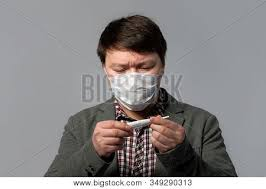masked: (92, 16, 177, 113)
